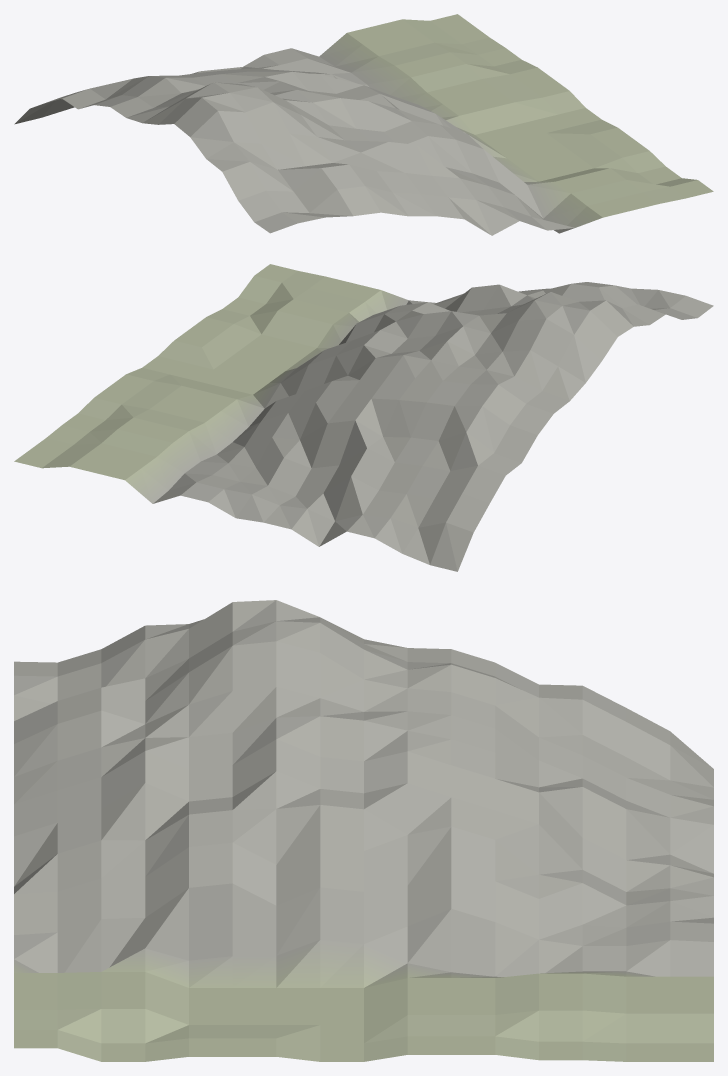
The picture shows the model from 3 angles, top to bottom: view 1: azimuth 30°, elevation 25°; view 2: azimuth 150°, elevation 25°; view 3: azimuth 270°, elevation 25°; orthographic projection. The views are drawn at different scales.
Bounding box in the file's own units: 32 × 10.08 × 32.
